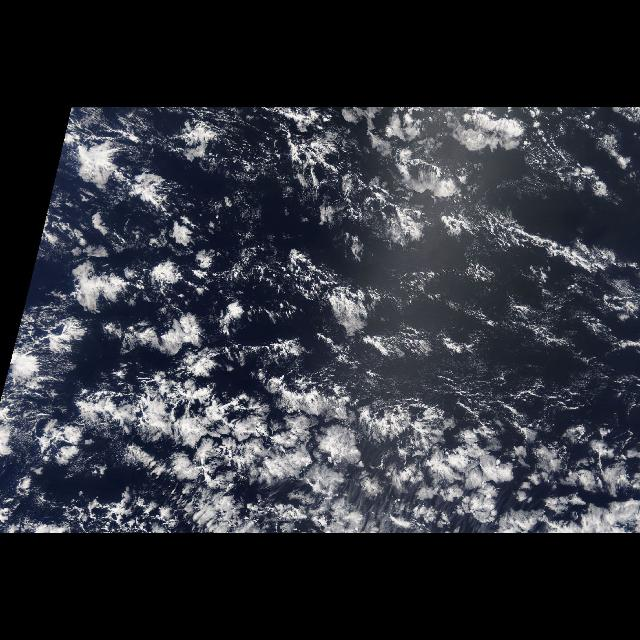Flower: (58, 138, 640, 530)
